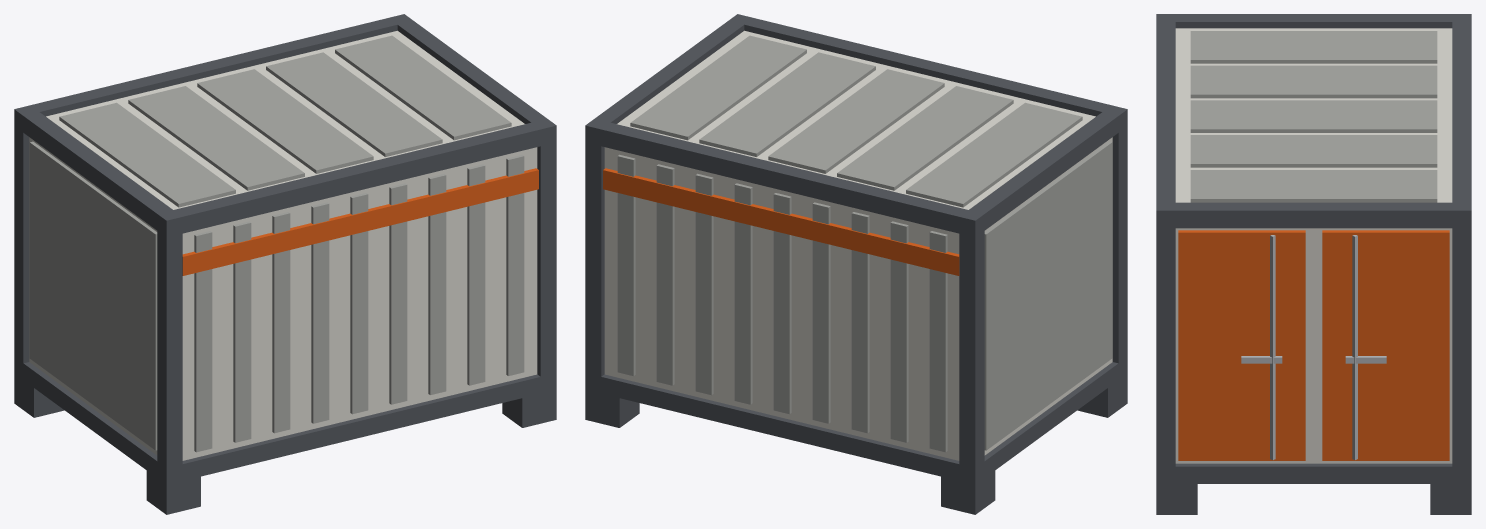
File: storage_crate.glb
3 views of the same model, side by side, from view 1: azimuth 30°, elevation 25°; view 2: azimuth 150°, elevation 25°; view 3: azimuth 270°, elevation 25° (orthographic). The views are drawn at different scales.
Parts seen in each view (by area): view 1: body; view 2: body; view 3: body.
Part boxes in pixels (left/top/right/bottom): body: left=14, top=14, right=556, bottom=514; body: left=585, top=14, right=1127, bottom=514; body: left=1156, top=14, right=1471, bottom=514.
Bounding box in the file's own units: 3.42 × 2.45 × 2.3.
